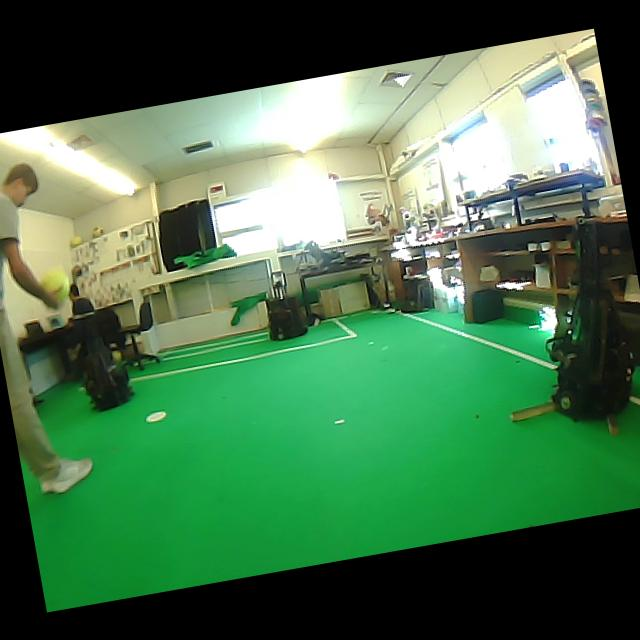ball: (41, 267, 70, 301), (70, 234, 84, 247), (111, 350, 122, 362), (92, 226, 103, 237)
robot: (548, 218, 634, 420), (83, 348, 133, 409), (266, 271, 305, 338)
